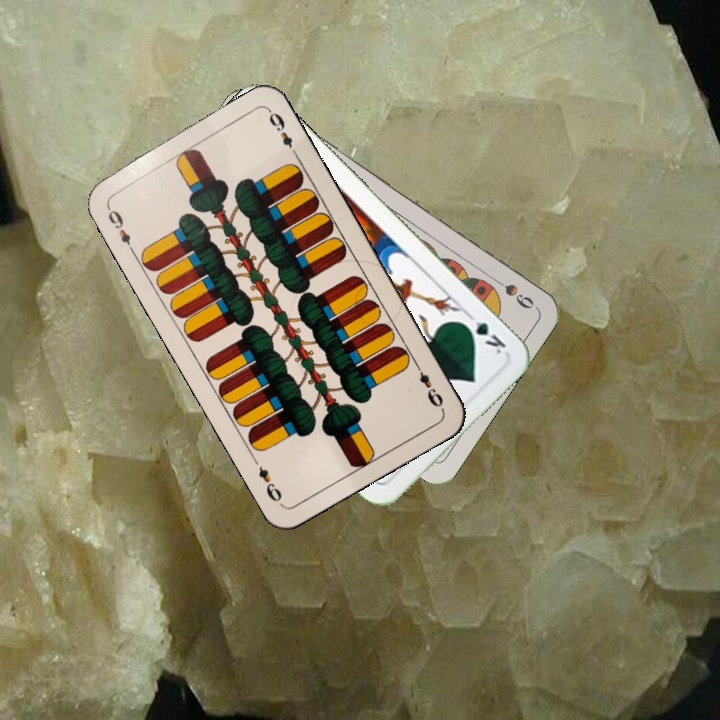E9: (102, 202, 138, 256), (410, 358, 446, 410)
GK: (457, 316, 509, 357)
S9: (485, 271, 537, 312)
